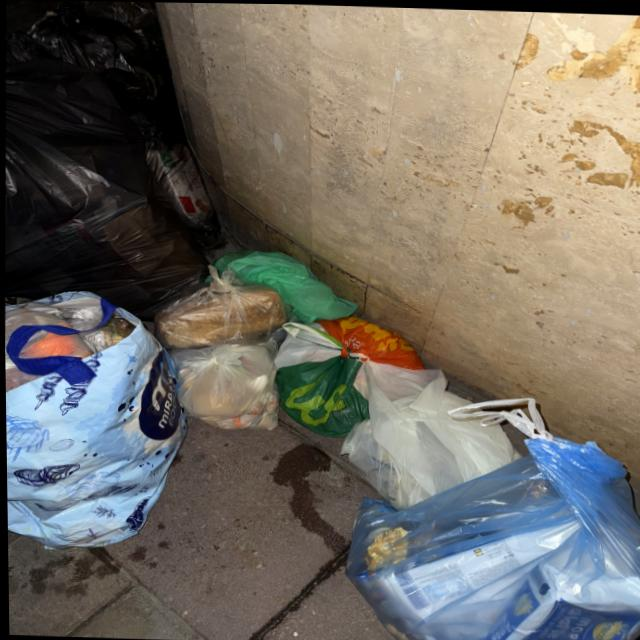Mixed Waste -Black Bags-: (6, 0, 217, 321)
Organic Waste -White Bags-: (170, 316, 520, 507)
